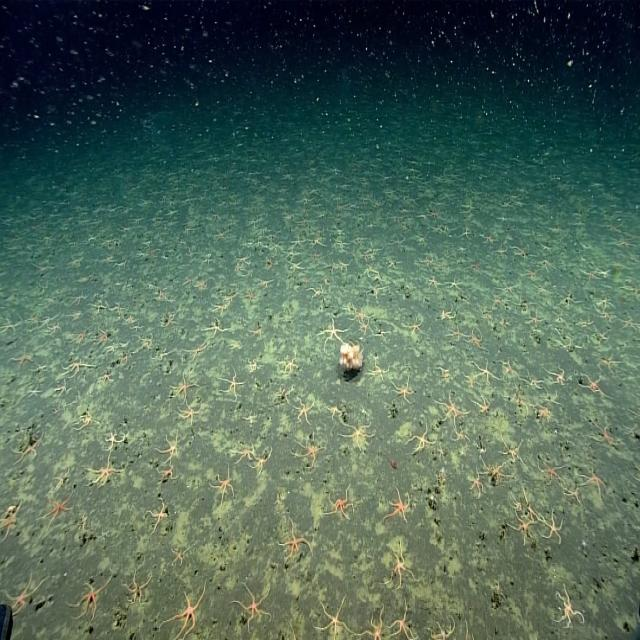brittle-stars: (166, 585, 206, 640), (72, 571, 113, 621), (6, 573, 46, 612), (234, 583, 272, 624), (316, 598, 348, 640), (387, 542, 414, 586), (553, 587, 581, 629), (11, 432, 46, 464), (327, 485, 355, 523), (436, 390, 466, 425), (89, 455, 120, 488), (279, 522, 309, 556), (124, 568, 153, 603), (384, 488, 409, 526), (590, 413, 616, 449), (46, 490, 74, 522), (389, 605, 414, 640), (296, 435, 326, 463), (509, 510, 536, 540), (542, 508, 564, 544), (428, 612, 456, 640), (408, 424, 434, 454), (341, 423, 373, 447), (210, 468, 234, 500), (360, 610, 384, 640), (582, 466, 606, 496), (170, 372, 193, 401), (148, 499, 169, 530), (498, 440, 526, 463), (295, 393, 315, 425), (160, 431, 180, 463), (222, 370, 242, 402), (537, 456, 562, 481), (252, 448, 273, 477), (368, 356, 391, 381), (179, 401, 202, 426), (474, 358, 496, 384), (580, 372, 604, 395), (76, 408, 98, 433), (278, 352, 300, 377), (322, 318, 343, 344), (472, 390, 492, 417), (468, 468, 484, 500), (486, 459, 507, 483), (546, 366, 568, 388), (0, 313, 22, 335), (393, 381, 415, 402), (156, 464, 181, 482), (65, 356, 87, 376), (446, 322, 465, 344), (104, 430, 123, 452), (466, 327, 484, 350), (160, 306, 180, 326), (12, 350, 34, 368), (186, 342, 208, 360), (349, 303, 369, 322), (170, 544, 188, 565), (620, 312, 638, 333), (407, 315, 424, 337), (234, 444, 254, 462), (208, 318, 225, 339), (593, 326, 610, 346), (137, 334, 153, 354), (446, 274, 462, 293), (27, 382, 42, 402), (426, 272, 440, 292), (528, 308, 542, 328), (93, 327, 110, 343), (70, 290, 87, 306), (100, 368, 114, 387), (581, 267, 599, 281), (46, 322, 63, 336), (242, 287, 256, 304), (110, 300, 124, 317), (285, 245, 299, 261), (460, 224, 472, 242), (288, 260, 303, 274), (194, 276, 207, 292), (334, 238, 349, 251), (291, 235, 305, 248), (270, 240, 283, 254), (385, 256, 398, 270), (358, 320, 370, 334), (308, 250, 321, 262), (131, 323, 143, 332)
